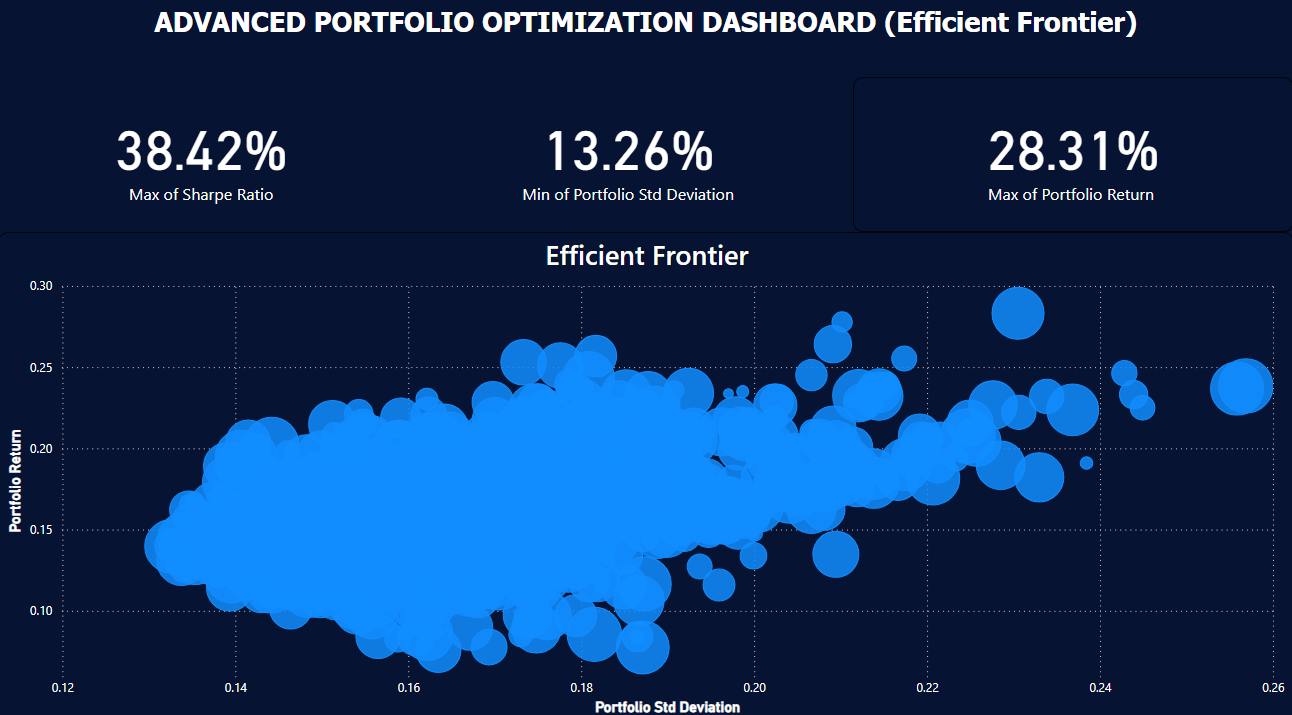

The page's visual inventory and layout, read from the dashboard file:
{"tool":"powerbi","page":{"name":"Efficient Frontier","canvas":[1280,720],"ordinal":2},"visuals":[{"type":"textbox","box":[0,0,1280,80.9],"z":0},{"type":"scatterChart","title":"Efficient Frontier ","fields":{"X":["Efficient Frontier Plot.Portfolio Std Deviation"],"Y":["Efficient Frontier Plot.Portfolio Return "],"Size":["Sum(Efficient Frontier Plot.Simulation)"]},"box":[0,233.9,1280,486.4],"z":1000},{"type":"card","fields":{"Values":["Max(Efficient Frontier Plot.Sharpe Ratio)"]},"box":[0,80.9,401.8,153],"z":1001},{"type":"card","fields":{"Values":["Min(Efficient Frontier Plot.Portfolio Std Deviation)"]},"box":[401.8,80.9,442.8,153],"z":1002},{"type":"card","fields":{"Values":["Max(Efficient Frontier Plot.Portfolio Return )"]},"box":[844.6,80.9,435.4,153],"z":1003}]}

Visuals, with their boxes in screenshot pixels (x1, y1, x2, y2), scaled from the page's 1280x720 canvas onto the 1292x715 screenshot:
textbox: [x1=0, y1=0, x2=1291, y2=80]
"Efficient Frontier " scatterChart: [x1=0, y1=232, x2=1291, y2=714]
card - Max(Efficient Frontier Plot.Sharpe Ratio): [x1=0, y1=80, x2=406, y2=232]
card - Min(Efficient Frontier Plot.Portfolio Std Deviation): [x1=406, y1=80, x2=853, y2=232]
card - Max(Efficient Frontier Plot.Portfolio Return ): [x1=853, y1=80, x2=1291, y2=232]
